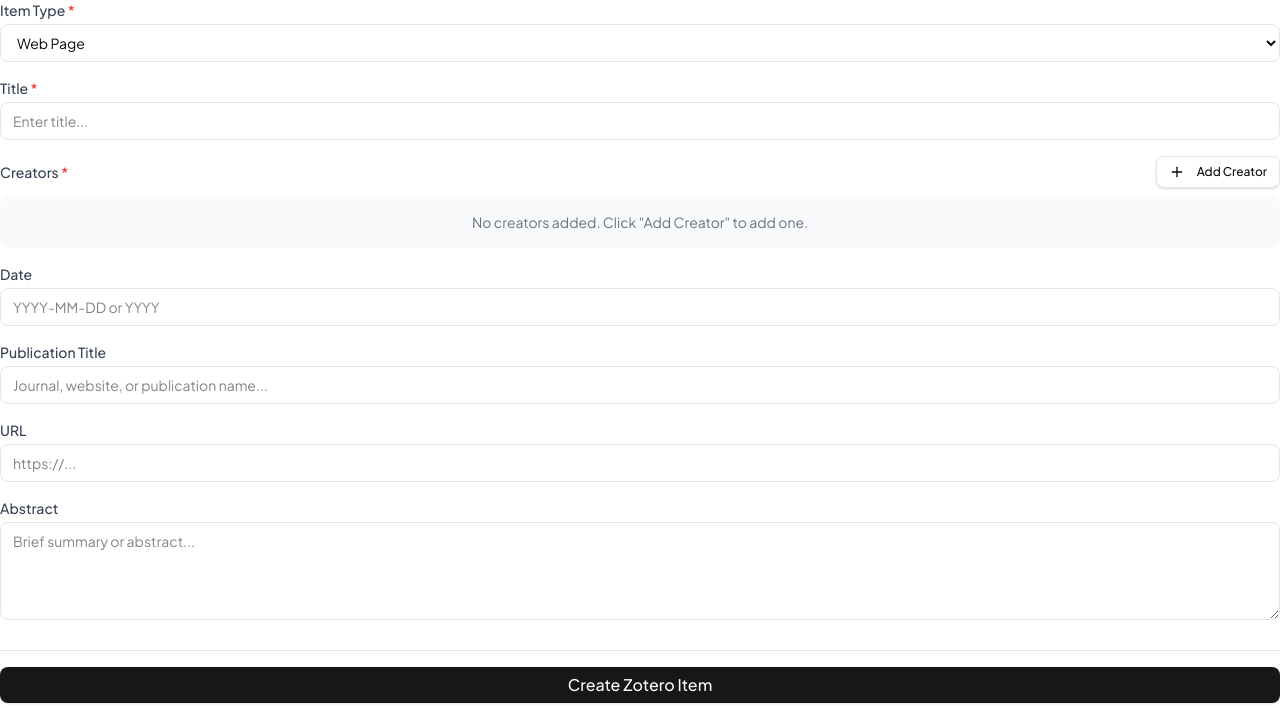
Scenario: MetadataForm › adds and removes creators
The image size is (1280, 708).
Click the button "Add Creator".
click(1218, 172)  # box [1156,156,1279,188]
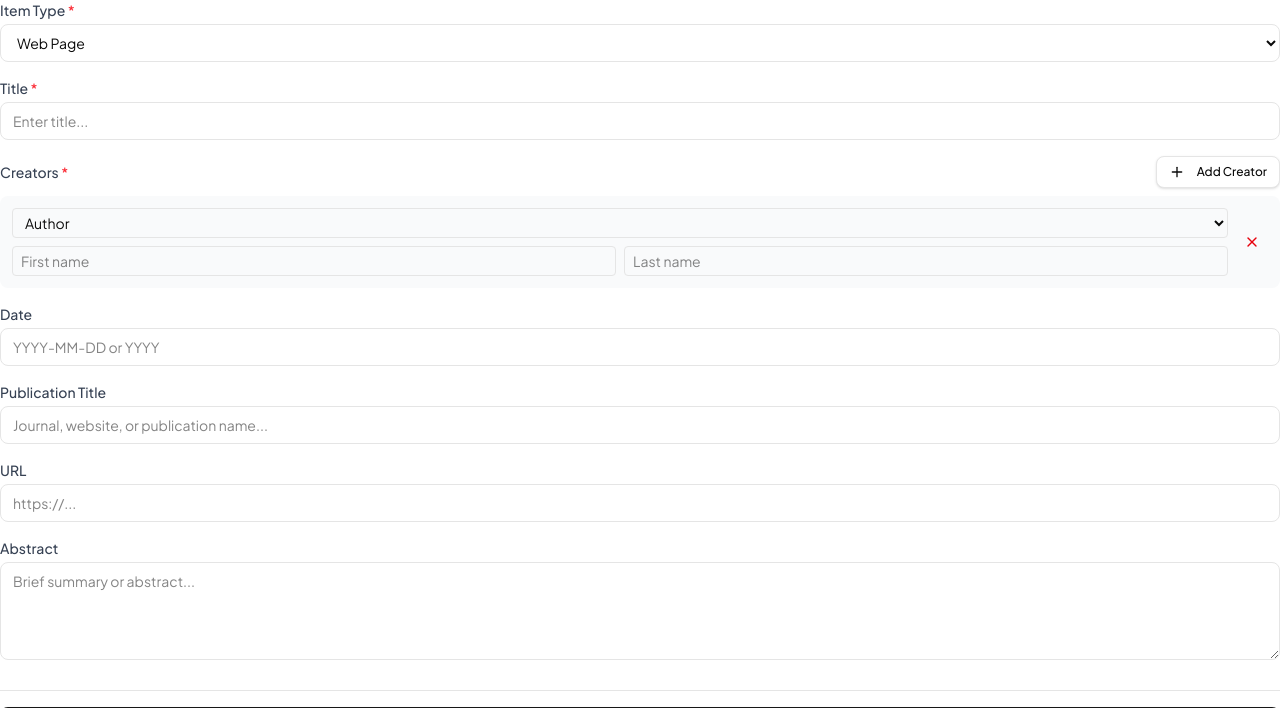
Result: the field with placeholder "First name" is shown at [12,246,616,276]
Result: the field with placeholder "Last name" is shown at [624,246,1228,276]
